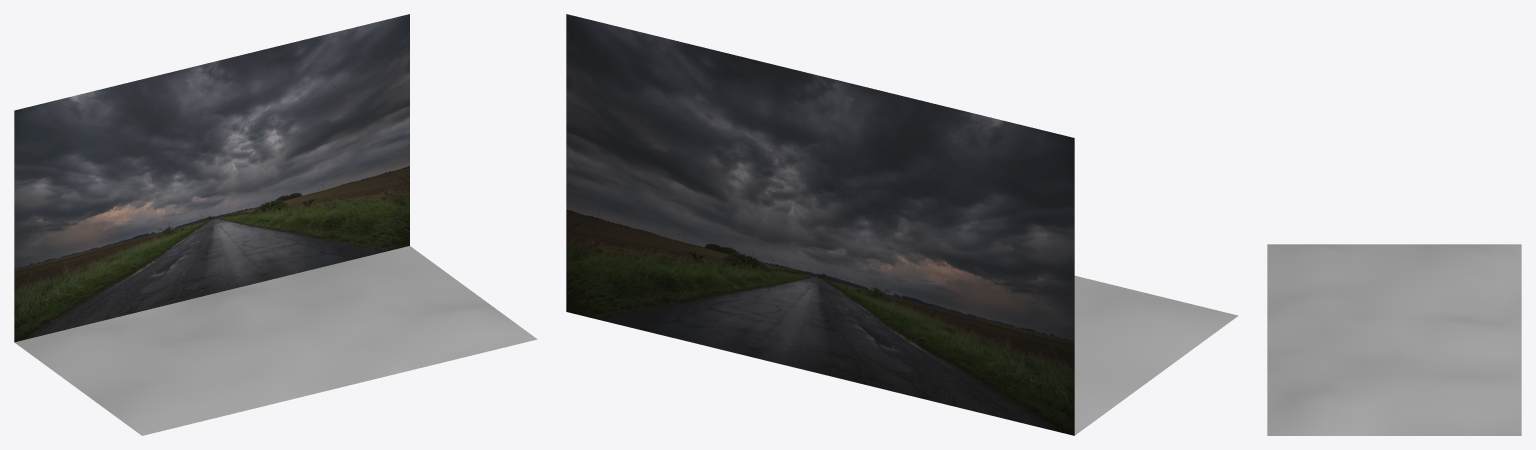
The model's file is rainy_day1.fbx.
3 renders of one model, left to right at view 1: azimuth 30°, elevation 25°; view 2: azimuth 150°, elevation 25°; view 3: azimuth 270°, elevation 25°, orthographic. The views are drawn at different scales.
Parts seen in each view (by area): view 1: rainy_day1; view 2: rainy_day1; view 3: rainy_day1.
Boxes of the visible parts, x1=… form: rainy_day1: x1=14, y1=14, x2=537, y2=435; rainy_day1: x1=566, y1=14, x2=1238, y2=435; rainy_day1: x1=1267, y1=244, x2=1521, y2=435.
Size of the model in its own units: 1247 by 698 by 698.
2 materials, 1 textured.
